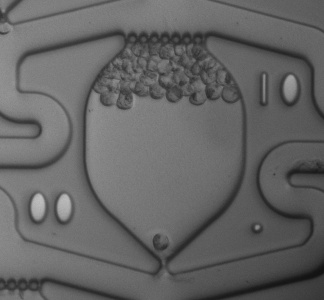AptNum: (247, 66, 307, 114)
Marker: (247, 218, 269, 239)
StNum: (20, 183, 84, 234)
Trap: (136, 257, 193, 300)
